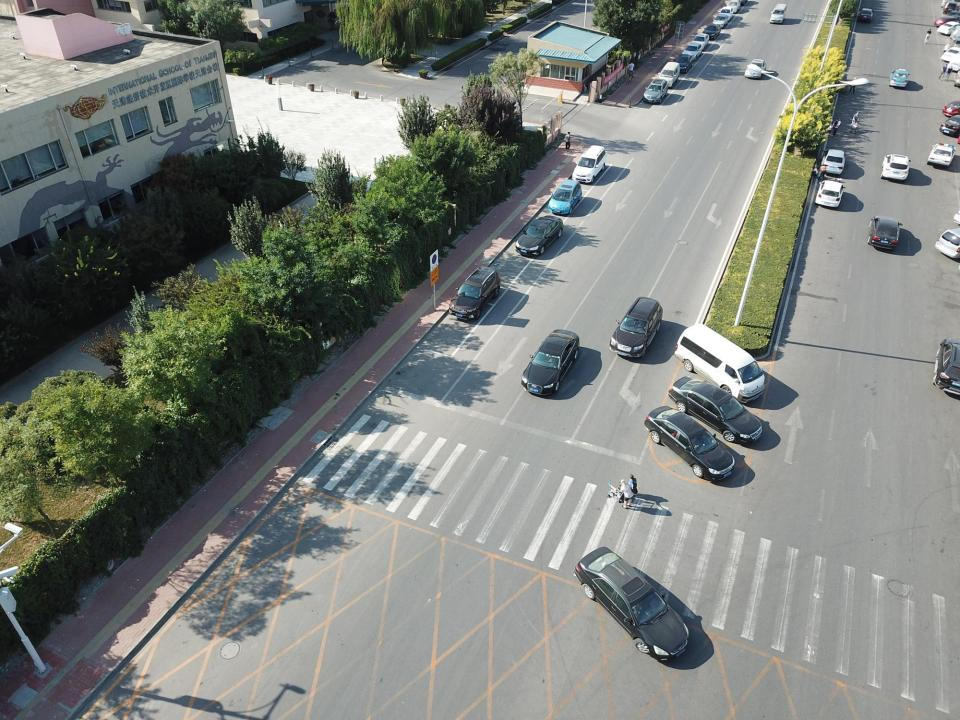car: (574, 546, 689, 660), (645, 406, 736, 481), (668, 376, 762, 446), (522, 329, 580, 397), (610, 296, 663, 359), (448, 268, 500, 320), (516, 216, 564, 259), (933, 339, 960, 398), (868, 213, 902, 250), (548, 180, 583, 214), (880, 154, 910, 182), (927, 143, 957, 169), (816, 181, 843, 208), (642, 78, 668, 103), (821, 149, 845, 173), (744, 58, 766, 80), (940, 114, 960, 137), (889, 69, 910, 88), (943, 100, 960, 121), (674, 55, 694, 72), (682, 43, 702, 60), (934, 15, 958, 29), (693, 32, 710, 51), (703, 23, 721, 40), (942, 46, 960, 62), (940, 22, 959, 36), (860, 8, 874, 25), (718, 6, 733, 20), (712, 14, 728, 26), (726, 0, 740, 13), (944, 4, 959, 16), (940, 0, 958, 9), (944, 10, 960, 20), (954, 71, 960, 84)
van: (674, 323, 764, 405), (574, 144, 609, 183), (936, 228, 960, 260), (656, 62, 680, 87), (769, 3, 787, 24), (947, 54, 960, 72)
